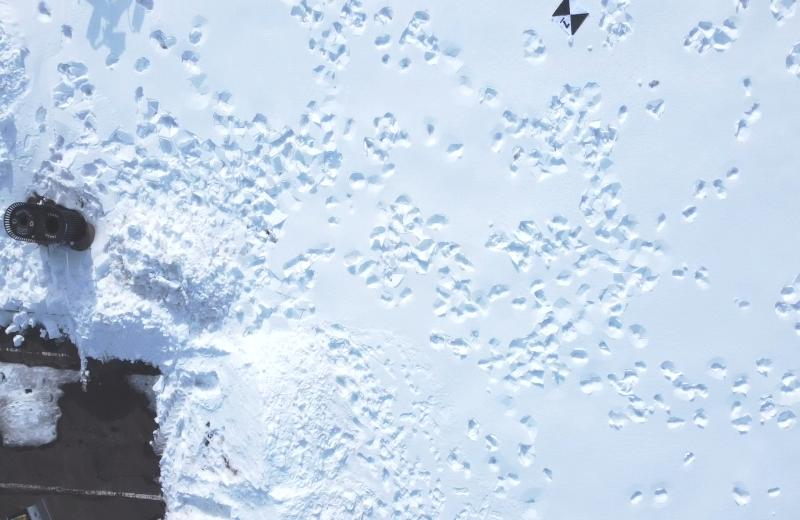Triangle: (536, 146, 580, 197)
